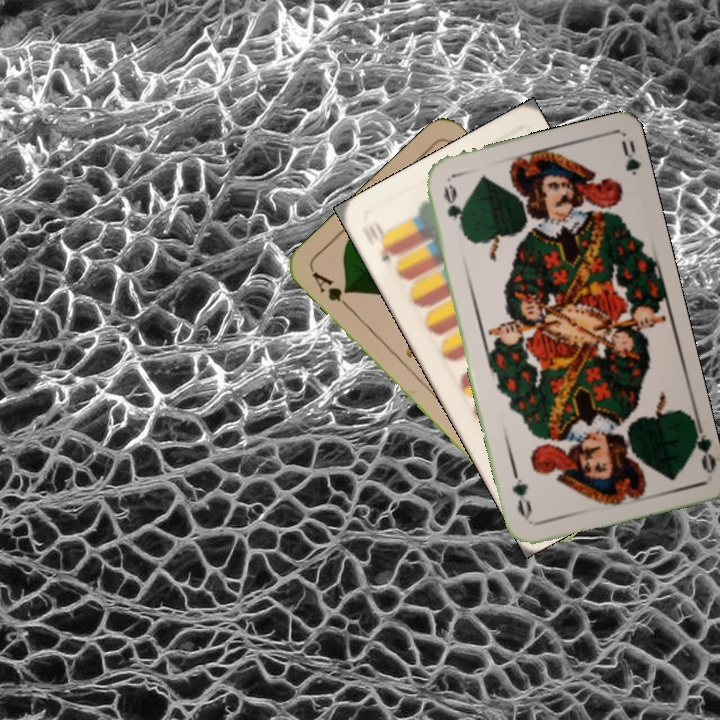E10: (364, 222, 398, 265)
GA: (307, 267, 355, 313)
GO: (686, 416, 717, 475), (439, 181, 467, 237)
